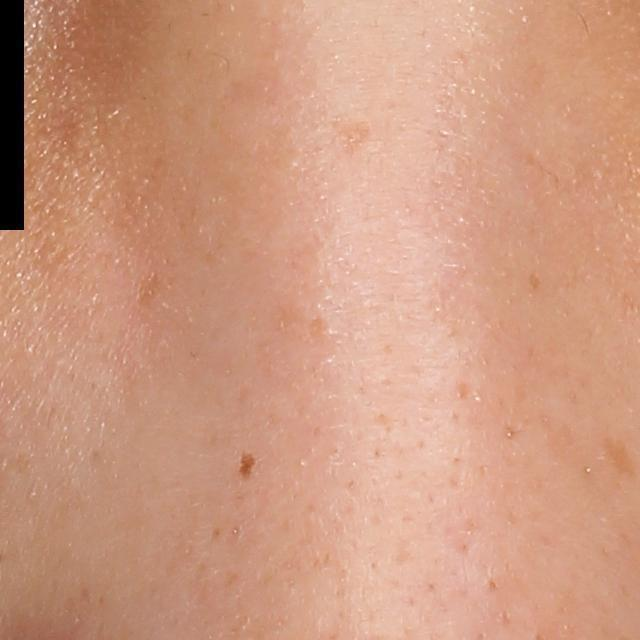melasma: (331, 116, 377, 164), (130, 266, 164, 309)
nevus: (236, 450, 257, 483)
